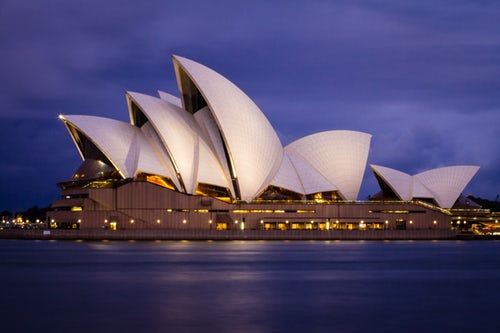opera house: (30, 38, 483, 240)
